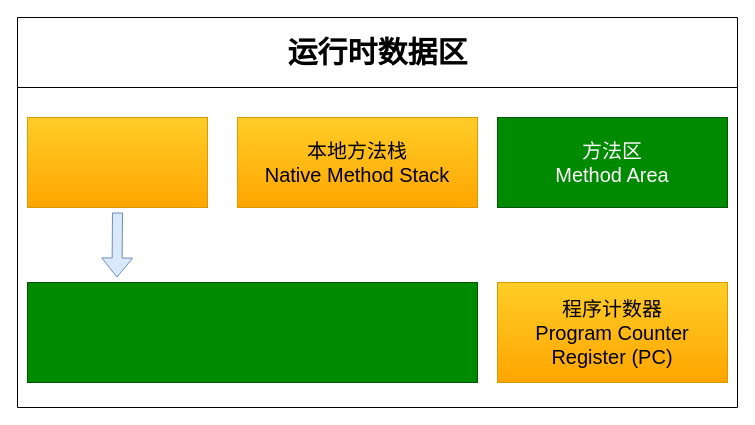
The diagram is 755 pixels wide and 425 high, and some of its shapes have lost their labels. Here are the shapes that lost their labels. From the top down, the centre of each, then its label:
At [117,162]: "虚拟机栈 VM Stack".
At [252,332]: "堆 Heap".
